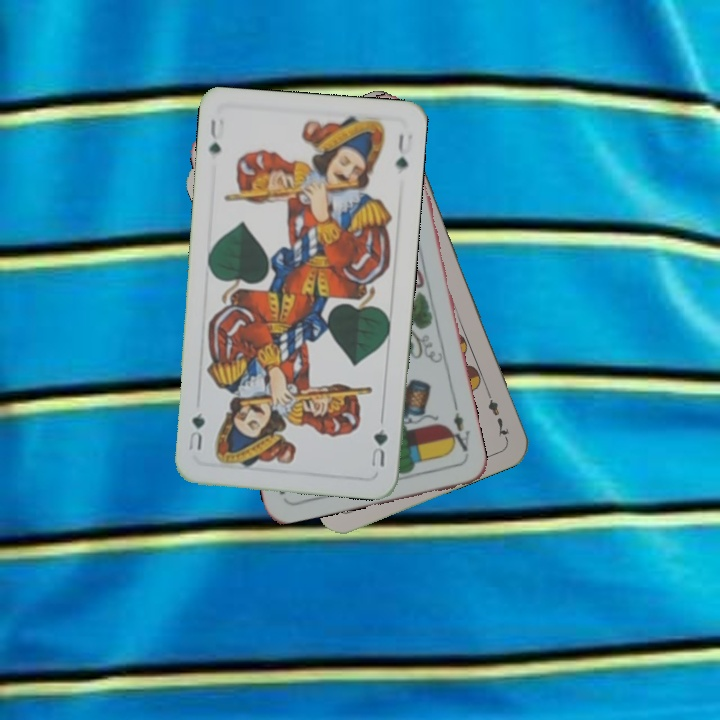E7: (482, 384, 512, 441)
EA: (444, 401, 473, 455)
GU: (367, 424, 390, 469), (205, 115, 223, 157)
